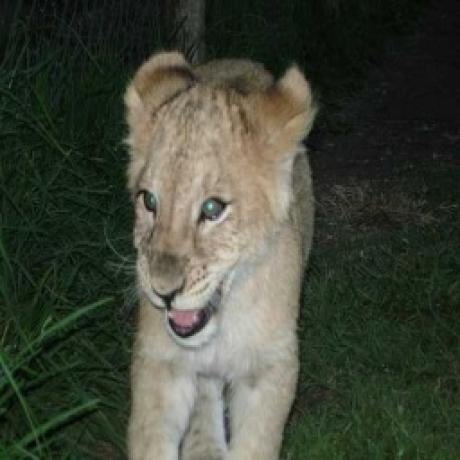Lion: (119, 45, 318, 460)
